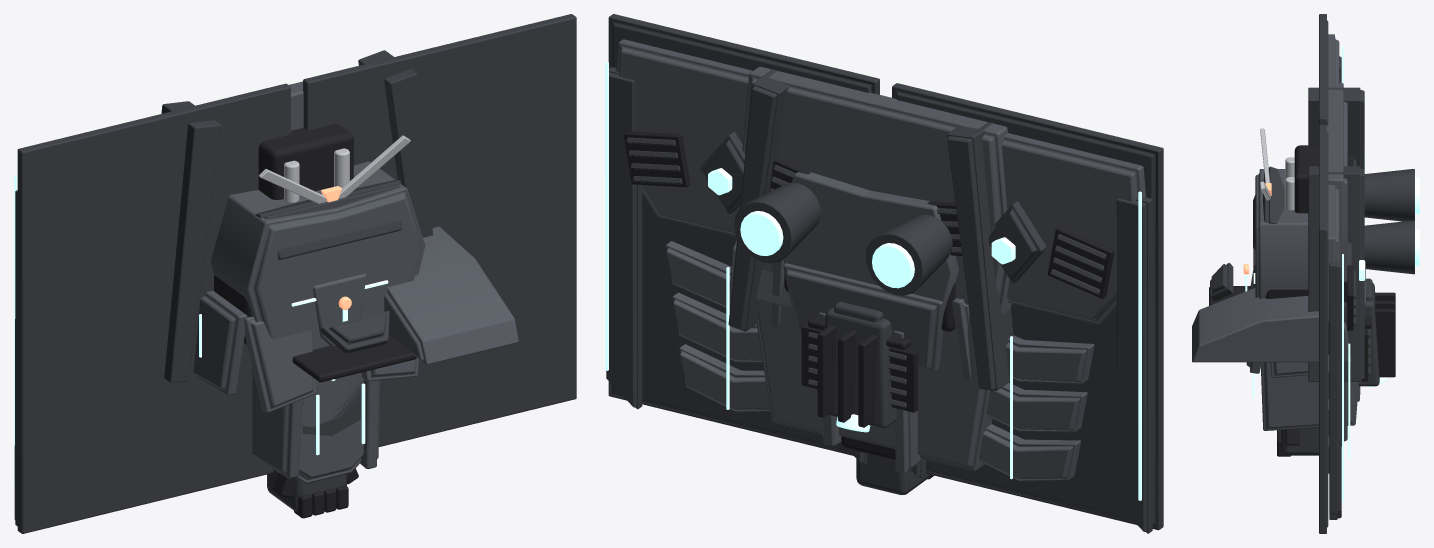
Rendered from mech.glb.
The picture shows the model from 3 angles, left to right: view 1: azimuth 30°, elevation 25°; view 2: azimuth 150°, elevation 25°; view 3: azimuth 270°, elevation 25°; orthographic projection. The views are drawn at different scales.
Parts seen in each view (by area): view 1: v_wingL, v_wingR, v_padL, v_ankleL, v_torso, v_pelvis, v_padR, v_kneeL, v_spine, v_elbowL, v_hipL, v_head; view 2: v_wingL, v_torso, v_wingR, v_kneeL, v_pelvis, v_padL, v_padR, v_ankleL, v_elbowL; view 3: v_torso, v_wingR, v_ankleL, v_kneeL, v_padR, v_wingL, v_spine, v_pelvis, v_elbowL, v_padL, v_head.
Boxes of the visible parts, x1=… form: v_wingL: x1=14, y1=83, x2=290, y2=533; v_wingR: x1=303, y1=14, x2=576, y2=446; v_padL: x1=210, y1=187, x2=389, y2=349; v_ankleL: x1=292, y1=226, x2=518, y2=382; v_torso: x1=161, y1=50, x2=433, y2=382; v_pelvis: x1=193, y1=273, x2=418, y2=412; v_padR: x1=282, y1=161, x2=425, y2=339; v_kneeL: x1=252, y1=296, x2=379, y2=483; v_spine: x1=258, y1=124, x2=353, y2=202; v_elbowL: x1=267, y1=374, x2=361, y2=518; v_hipL: x1=302, y1=372, x2=362, y2=427; v_head: x1=259, y1=135, x2=410, y2=203; v_wingL: x1=892, y1=83, x2=1163, y2=533; v_torso: x1=728, y1=66, x2=1013, y2=471; v_wingR: x1=605, y1=14, x2=879, y2=464; v_kneeL: x1=817, y1=307, x2=921, y2=473; v_pelvis: x1=771, y1=260, x2=970, y2=380; v_padL: x1=809, y1=188, x2=958, y2=338; v_padR: x1=783, y1=172, x2=917, y2=283; v_ankleL: x1=729, y1=239, x2=910, y2=349; v_elbowL: x1=856, y1=453, x2=933, y2=494; v_torso: x1=1308, y1=83, x2=1419, y2=446; v_wingR: x1=1319, y1=125, x2=1365, y2=533; v_ankleL: x1=1192, y1=262, x2=1372, y2=362; v_kneeL: x1=1243, y1=264, x2=1395, y2=430; v_padR: x1=1253, y1=180, x2=1308, y2=298; v_wingL: x1=1319, y1=14, x2=1365, y2=168; v_spine: x1=1285, y1=145, x2=1318, y2=213; v_pelvis: x1=1245, y1=249, x2=1365, y2=377; v_elbowL: x1=1277, y1=427, x2=1318, y2=456; v_padL: x1=1253, y1=166, x2=1285, y2=213; v_head: x1=1260, y1=128, x2=1285, y2=207.
Size of the model in its own units: 4.86 by 3.43 by 2.17.
